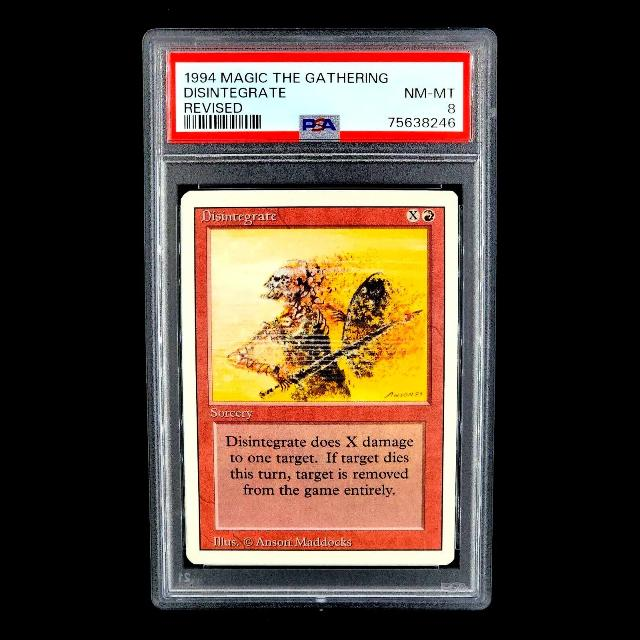card: (182, 190, 458, 566)
psa_label: (168, 52, 472, 142)
psa_slab: (143, 27, 498, 610)
